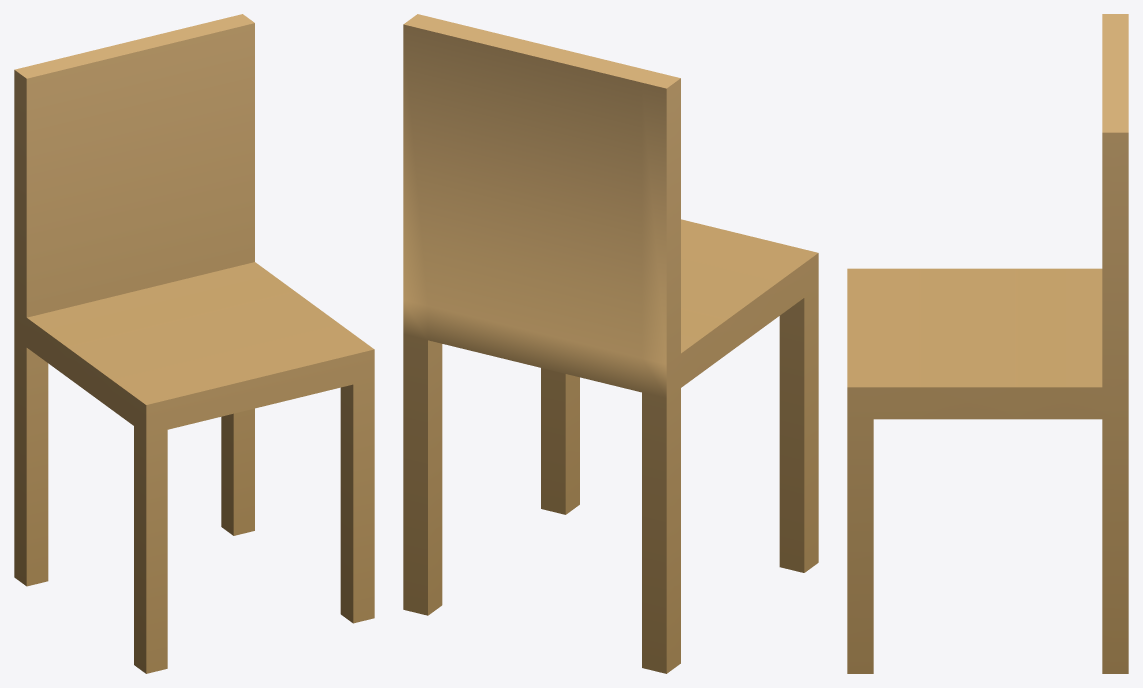
Rendered from Chair.fbx.
3 views of the same model, side by side, from view 1: azimuth 30°, elevation 25°; view 2: azimuth 150°, elevation 25°; view 3: azimuth 270°, elevation 25° (orthographic). The views are drawn at different scales.
Visible parts, largest first — view 1: Chair; view 2: Chair; view 3: Chair.
Part boxes in pixels (x1,y1,x2,y2): Chair: (14, 14, 374, 673); Chair: (403, 14, 818, 673); Chair: (847, 14, 1128, 673).
Bounding box in the file's own units: 50 × 106 × 50.
